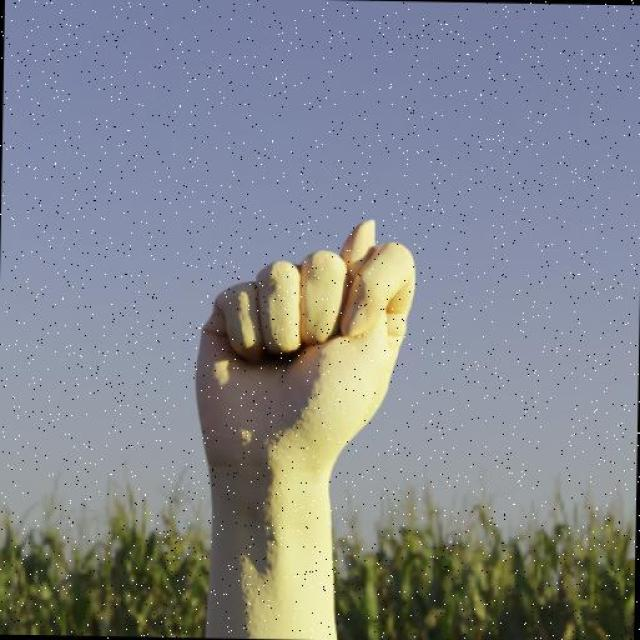T: (191, 214, 422, 483)
